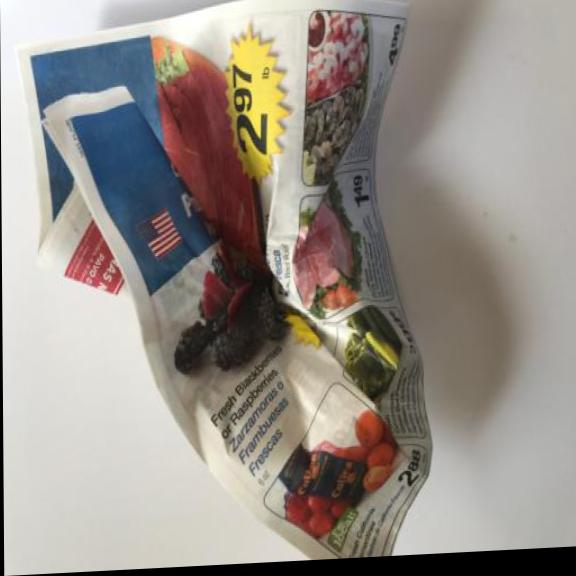Kertas: (12, 0, 440, 575)
